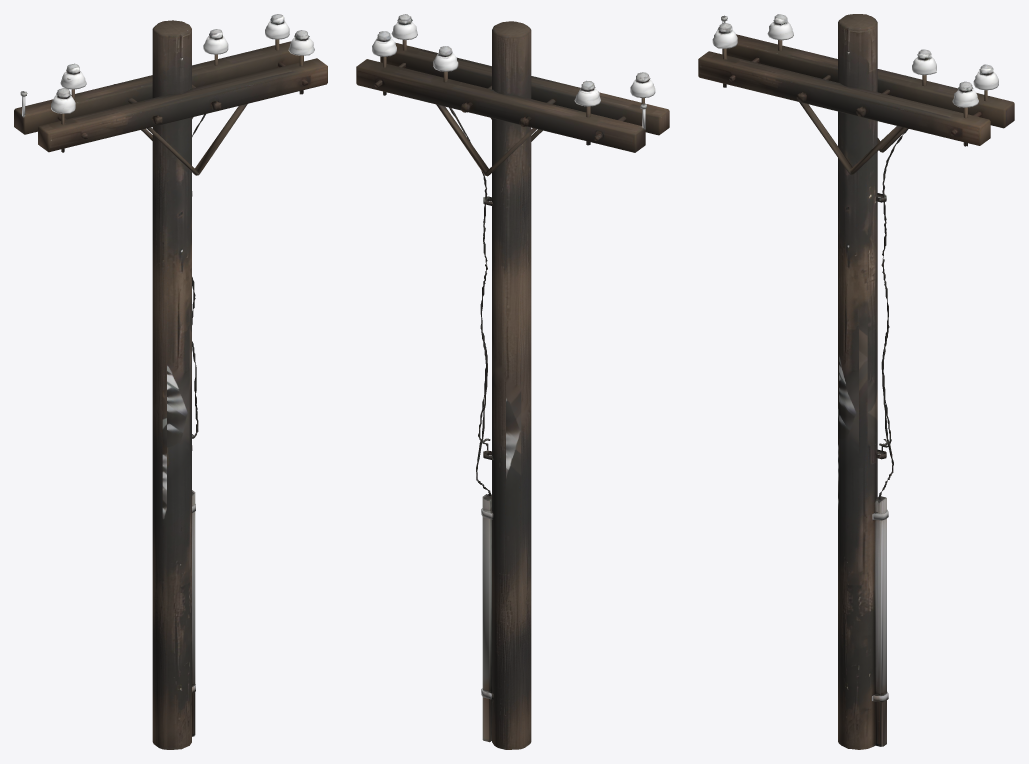
The model's file is original_glb.glb.
The picture shows the model from 3 angles, left to right: view 1: azimuth 30°, elevation 25°; view 2: azimuth 150°, elevation 25°; view 3: azimuth 330°, elevation 25°; orthographic projection.
Visible parts, largest first — view 1: telegraph pole; view 2: telegraph pole; view 3: telegraph pole.
Part boxes in pixels (<box>): telegraph pole: <box>14,14,327,749</box>; telegraph pole: <box>356,14,669,749</box>; telegraph pole: <box>698,14,1014,749</box>.
Size of the model in its own units: 0.4121 by 0.998 by 0.1152.
1 material, 1 textured.
